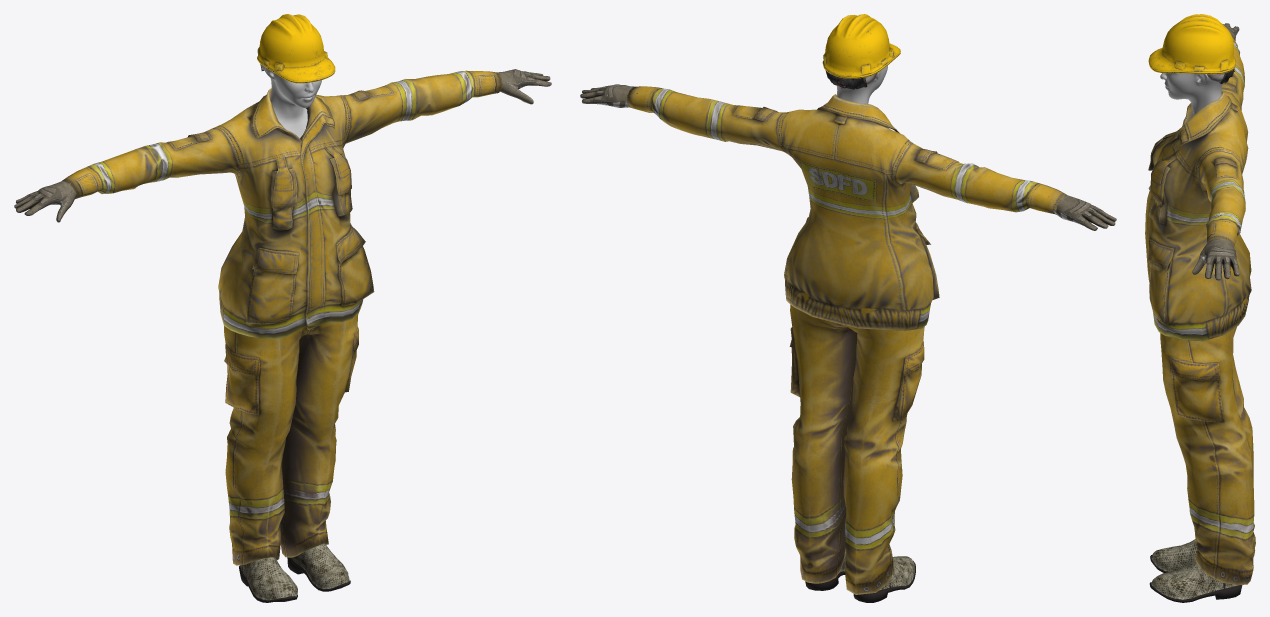
3 renders of one model, left to right at view 1: azimuth 30°, elevation 25°; view 2: azimuth 150°, elevation 25°; view 3: azimuth 270°, elevation 25°, orthographic.
Visible parts, largest first — view 1: Tops, Bottoms, Hats, Shoes, Gloves, Body; view 2: Tops, Bottoms, Hats, Gloves, Shoes, Body; view 3: Tops, Bottoms, Hats, Shoes, Body, Gloves.
Boxes of the visible parts, x1=… form: Tops: x1=62, y1=70, x2=502, y2=339; Bottoms: x1=224, y1=314, x2=358, y2=565; Hats: x1=257, y1=14, x2=335, y2=83; Shoes: x1=239, y1=543, x2=350, y2=602; Gloves: x1=14, y1=69, x2=551, y2=222; Body: x1=264, y1=66, x2=321, y2=138; Tops: x1=625, y1=86, x2=1066, y2=330; Bottoms: x1=789, y1=292, x2=924, y2=594; Hats: x1=822, y1=14, x2=900, y2=89; Gloves: x1=580, y1=84, x2=1116, y2=230; Shoes: x1=805, y1=549, x2=915, y2=602; Body: x1=837, y1=65, x2=887, y2=103; Tops: x1=1145, y1=37, x2=1251, y2=341; Bottoms: x1=1160, y1=297, x2=1255, y2=585; Hats: x1=1148, y1=14, x2=1235, y2=83; Shoes: x1=1149, y1=539, x2=1242, y2=602; Body: x1=1160, y1=73, x2=1222, y2=115; Gloves: x1=1192, y1=23, x2=1239, y2=280.
Size of the model in its own units: 179 by 182 by 32.39.
